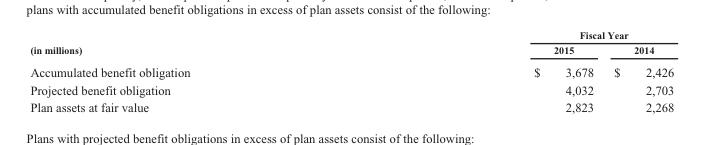table: (29, 29, 673, 114)
table column: (29, 29, 361, 114), (361, 29, 603, 114), (603, 29, 673, 114)
table column header: (29, 29, 673, 60)
table row: (29, 60, 673, 80), (29, 42, 673, 60), (29, 80, 673, 98), (29, 98, 673, 114), (29, 29, 673, 42)
table spanning cell: (29, 29, 361, 60), (361, 29, 673, 42)
